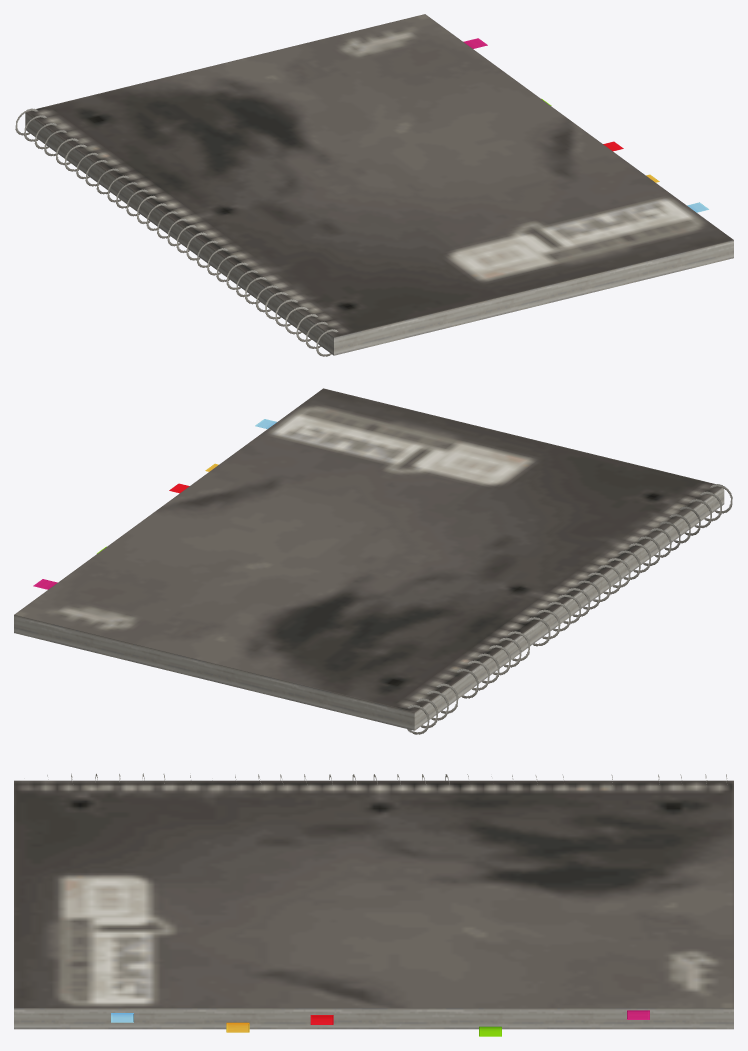
The model's file is Notebook.fbx.
3 views of the same model, one above another, from view 1: azimuth 30°, elevation 25°; view 2: azimuth 150°, elevation 25°; view 3: azimuth 270°, elevation 25° (orthographic). The views are drawn at different scales.
Parts seen in each view (by area): view 1: NotebookL, NoteBookR, Rings; view 2: NotebookL, NoteBookR, Rings; view 3: NotebookL, NoteBookR.
Part boxes in pixels (x1,y1,x2,y2): NotebookL: (25,14,733,346); NoteBookR: (25,98,733,355); Rings: (15,108,338,356); NotebookL: (14,388,724,721); NoteBookR: (14,463,724,730); Rings: (407,484,732,734); NotebookL: (14,780,733,1024); NoteBookR: (14,1018,733,1036).
Size of the model in its own units: 34.34 by 2.21 by 42.64.
